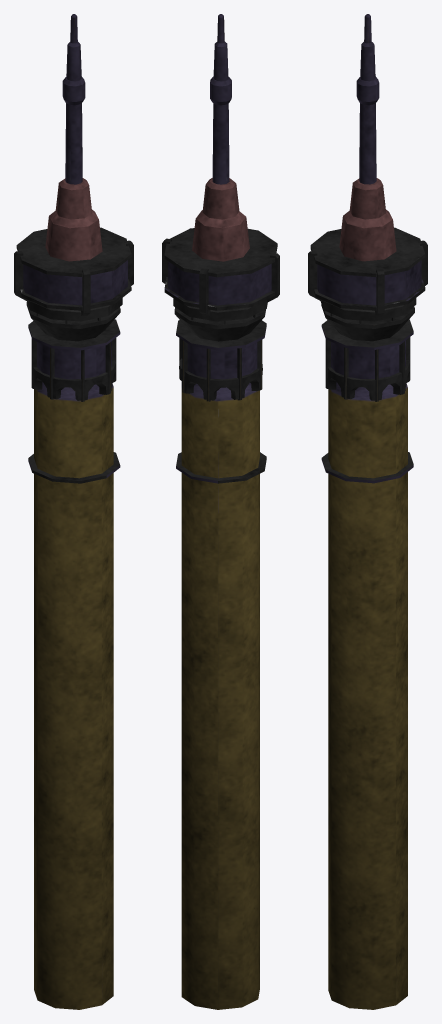
File: ETC0710019.fbx
The picture shows the model from 3 angles, left to right: view 1: azimuth 90°, elevation 25°; view 2: azimuth 150°, elevation 25°; view 3: azimuth 270°, elevation 25°; orthographic projection.
Parts seen in each view (by area): view 1: smETC0710019; view 2: smETC0710019; view 3: smETC0710019.
Part boxes in pixels (x1=…): smETC0710019: x1=14, y1=14, x2=133, y2=1009; smETC0710019: x1=162, y1=14, x2=279, y2=1009; smETC0710019: x1=308, y1=14, x2=427, y2=1009.
Bounding box in the file's own units: 1253 × 11277 × 1253.
Materials: 1 (1 with a texture image).
